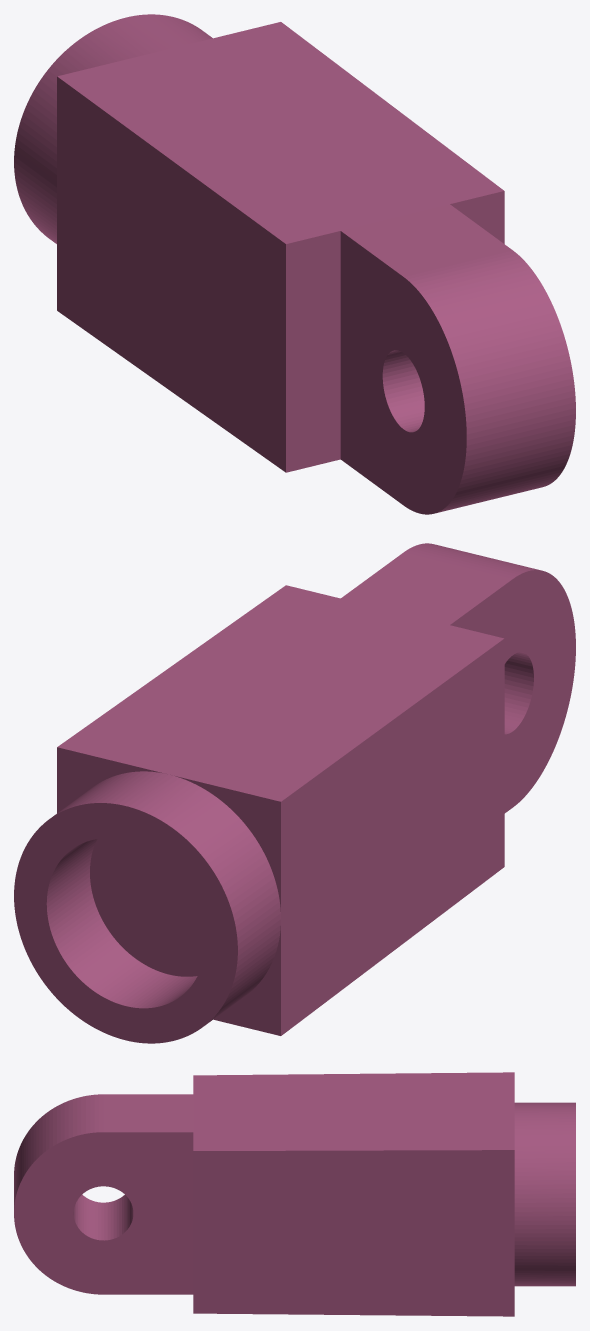
The picture shows the model from 3 angles, top to bottom: view 1: azimuth 30°, elevation 25°; view 2: azimuth 150°, elevation 25°; view 3: azimuth 270°, elevation 25°; orthographic projection. The views are drawn at different scales.
Parts seen in each view (by area): view 1: node; view 2: node; view 3: node.
Part boxes in pixels (x1,y1,x2,y2): node: (14,14,575,514); node: (14,543,575,1043); node: (14,1072,575,1316).
Bounding box in the file's own units: 0.0572 × 0.0572 × 0.1748.
